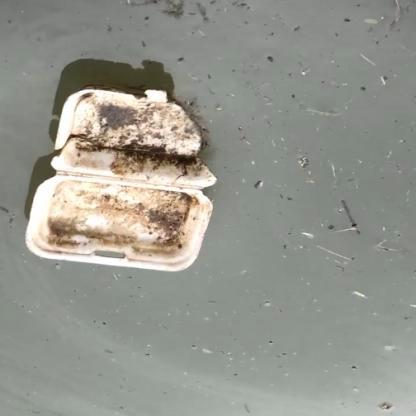Plastic: (24, 86, 217, 271)
